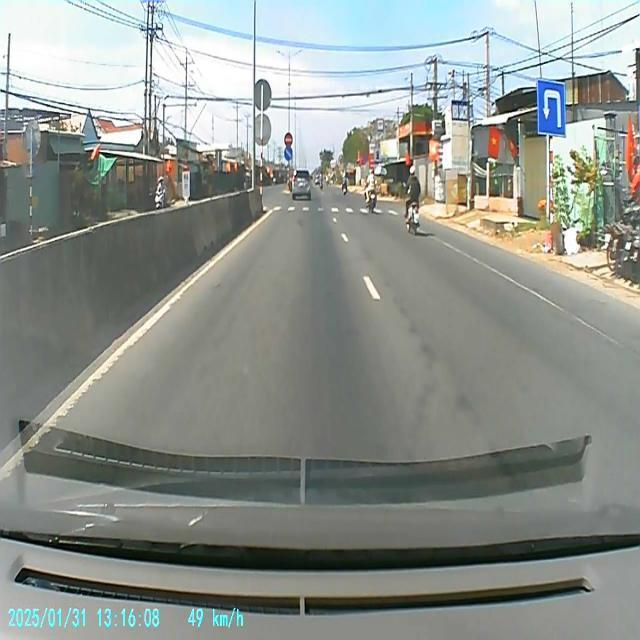131a-cam-do-xe: (284, 132, 292, 148)
302a-huong-phai-di-vong-chuong-ngai-vat-1: (284, 148, 292, 160)
